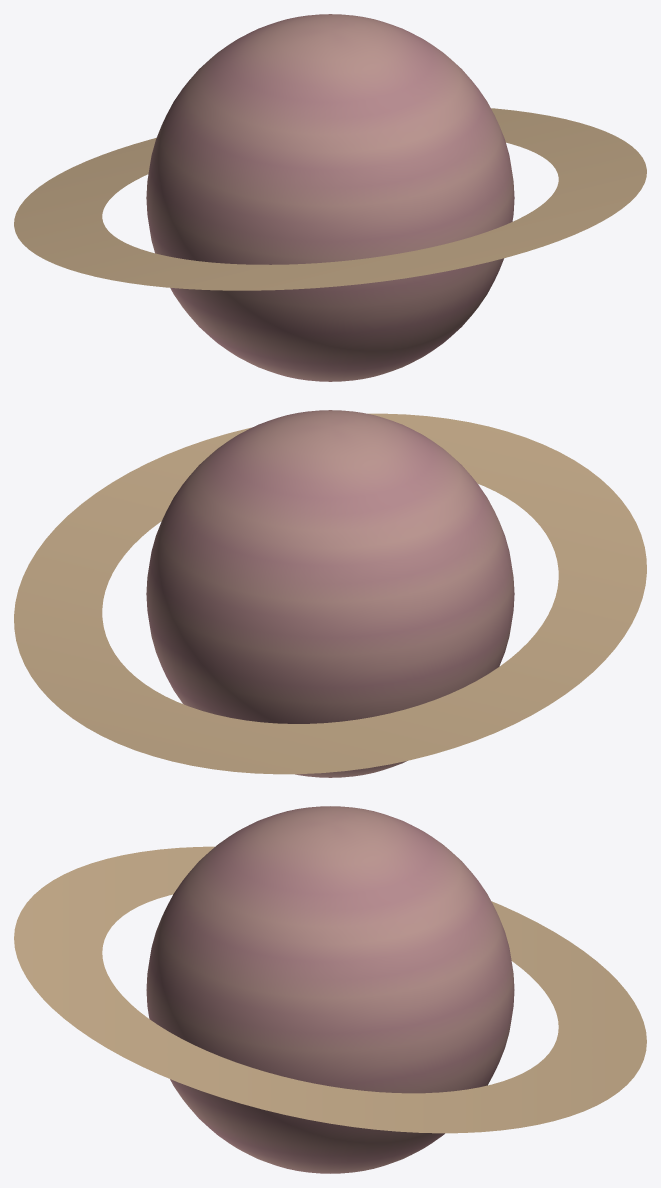
The model's file is planet_05.glb.
3 renders of one model, top to bottom at view 1: azimuth 30°, elevation 25°; view 2: azimuth 150°, elevation 25°; view 3: azimuth 270°, elevation 25°, orthographic.
Parts seen in each view (by area): view 1: planet_05_painted_mesh; view 2: planet_05_painted_mesh; view 3: planet_05_painted_mesh.
Part boxes in pixels (left/top/right/bottom): planet_05_painted_mesh: left=14, top=14, right=646, bottom=381; planet_05_painted_mesh: left=14, top=410, right=646, bottom=777; planet_05_painted_mesh: left=14, top=806, right=646, bottom=1173.
Size of the model in its own units: 3.44 by 2 by 3.44.
